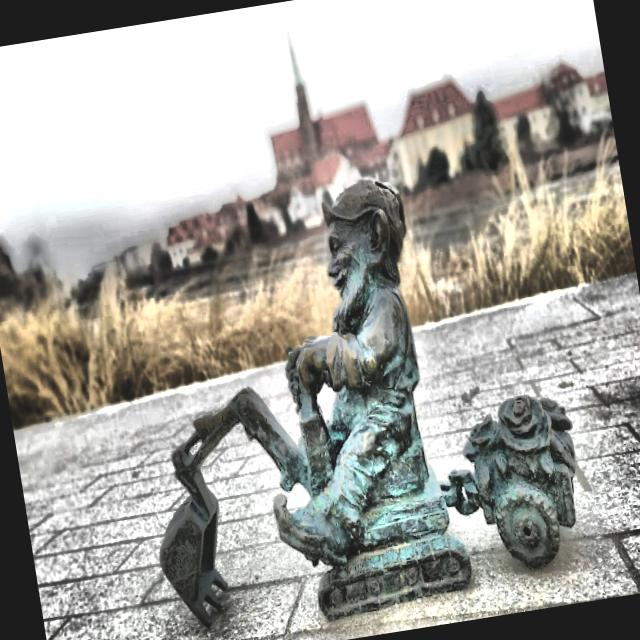Koparkus: (160, 180, 576, 627)
